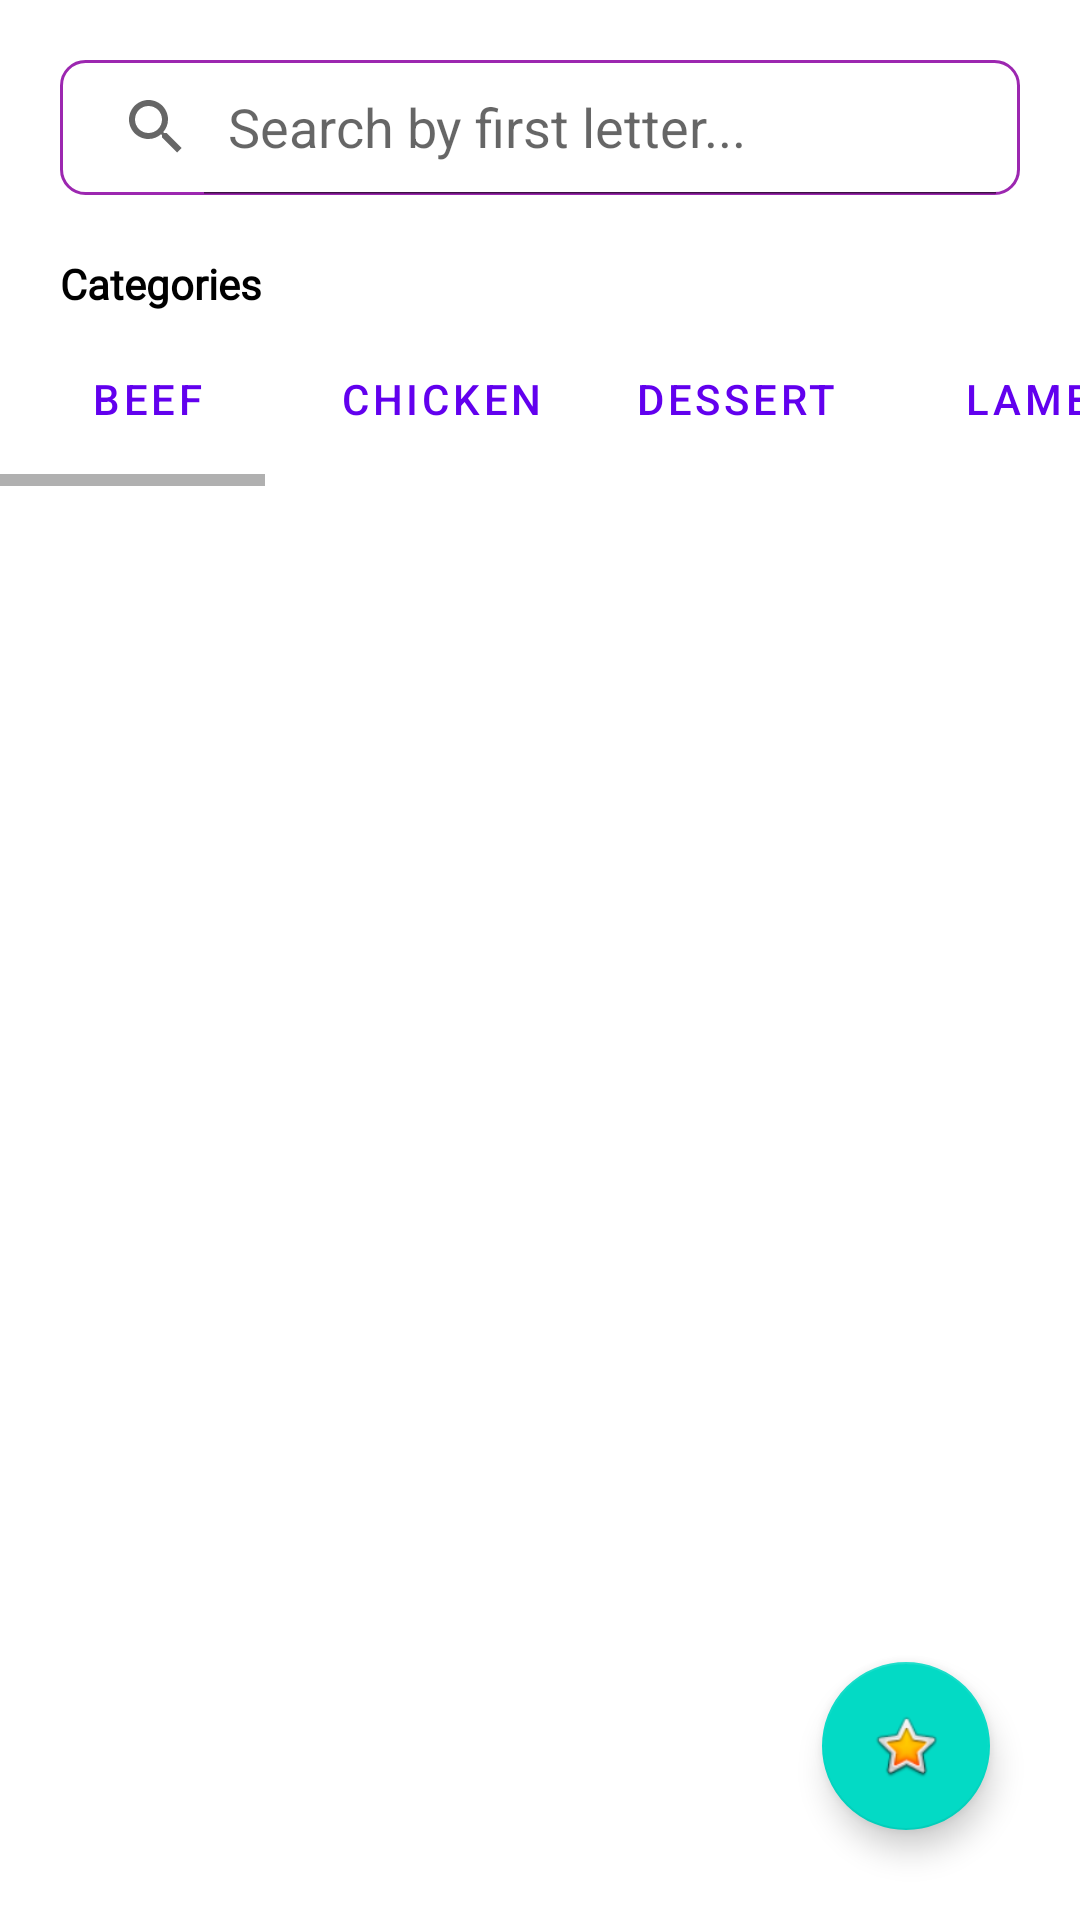

Named icons in this screenshot (1080 x 1920) and their centers, point (x, y):
Like: point (906, 1746)
